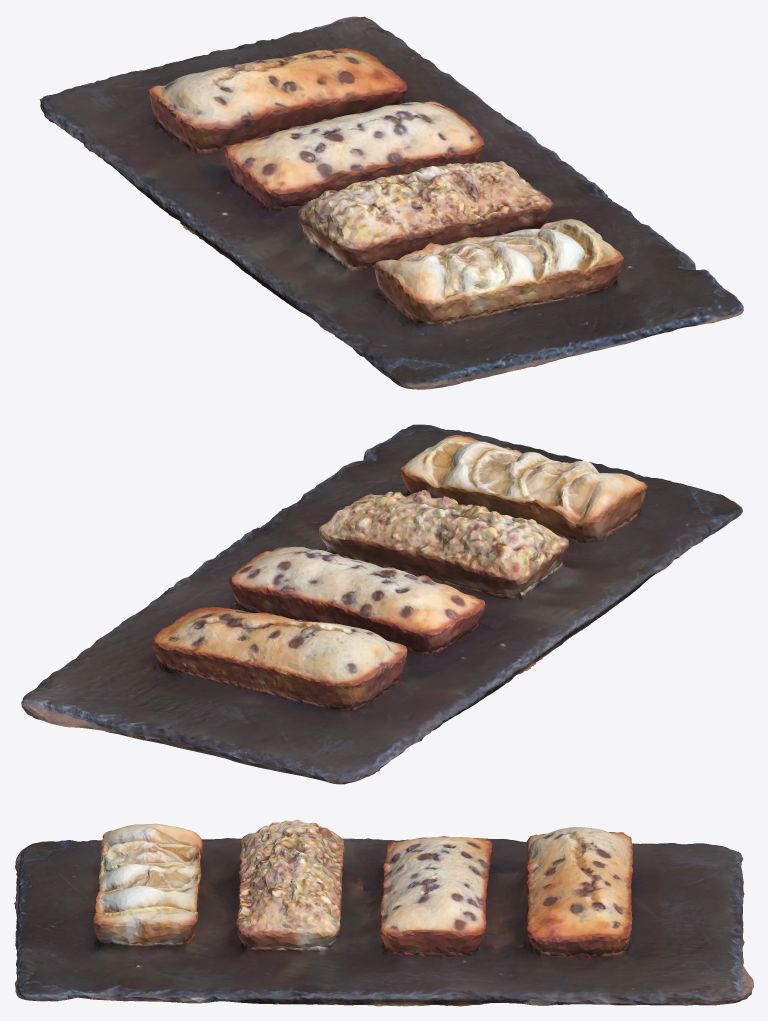
The model's file is 4 ta keik mostatili full 3.5).glb.
The picture shows the model from 3 angles, top to bottom: view 1: azimuth 30°, elevation 25°; view 2: azimuth 150°, elevation 25°; view 3: azimuth 270°, elevation 25°; orthographic projection. The views are drawn at different scales.
Visible parts, largest first — view 1: object 1; view 2: object 1; view 3: object 1.
Part boxes in pixels (<box>): object 1: <box>39,16,743,389</box>; object 1: <box>21,424,742,784</box>; object 1: <box>14,819,753,1006</box>.
Bounding box in the file's own units: 0.1849 × 0.0383 × 0.3623.
Materials: 2 (1 with a texture image).
